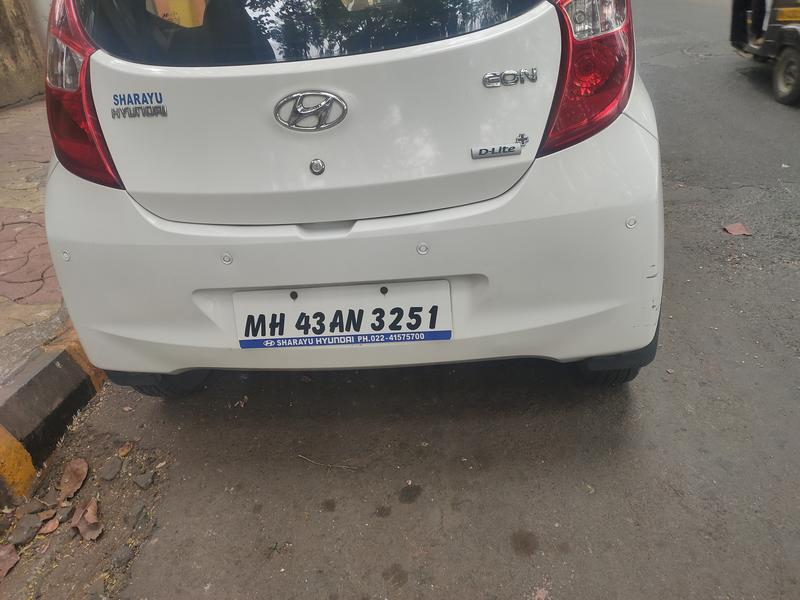license_plate: (228, 275, 459, 359)
